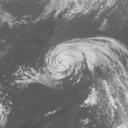cyclone: (45, 36, 119, 79)
